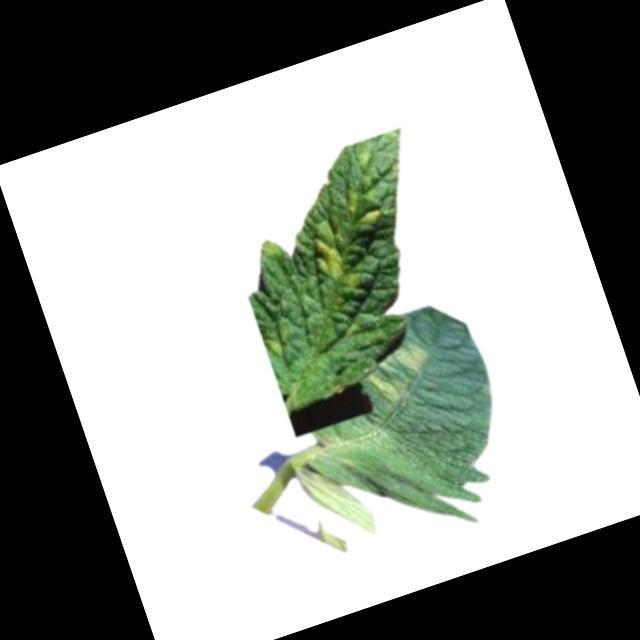Leaf_Mold: (304, 216, 366, 297), (341, 179, 390, 232), (365, 362, 415, 410), (394, 338, 434, 377)
